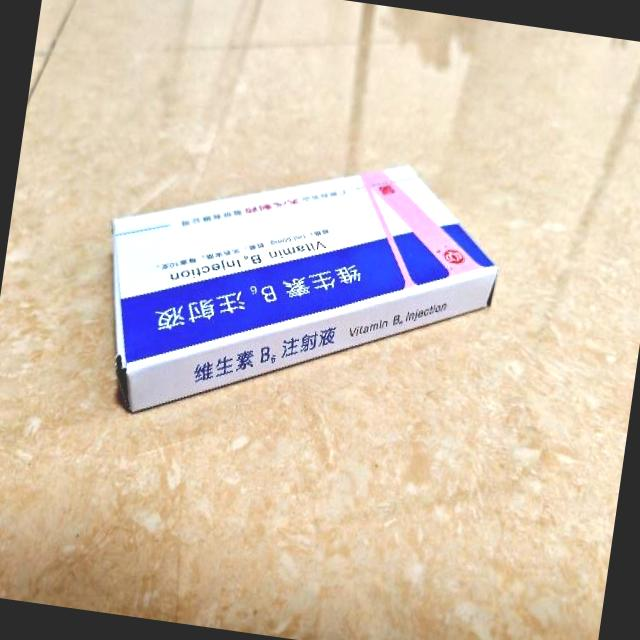box: (88, 124, 511, 462)
